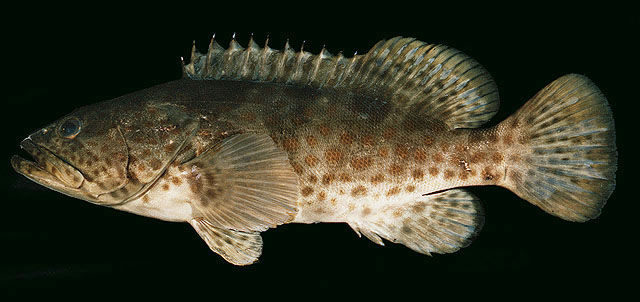fish: (11, 31, 618, 266)
